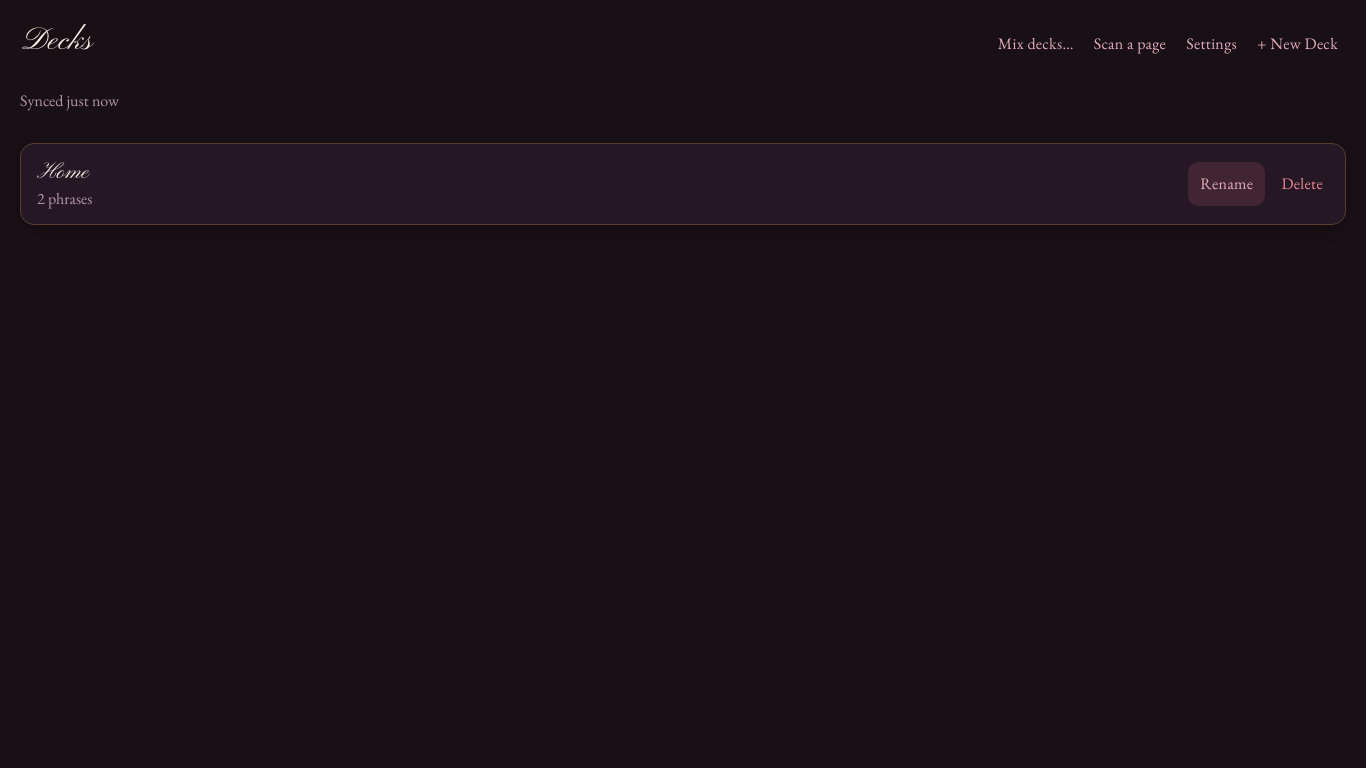
Scenario: App wired to the Drill screen › launches a Drill over a whole Deck from Deck detail, gated on readiness
Click the button with test id "deck-row-d1".
click(63, 172)  # box 21,144 -> 1178,224
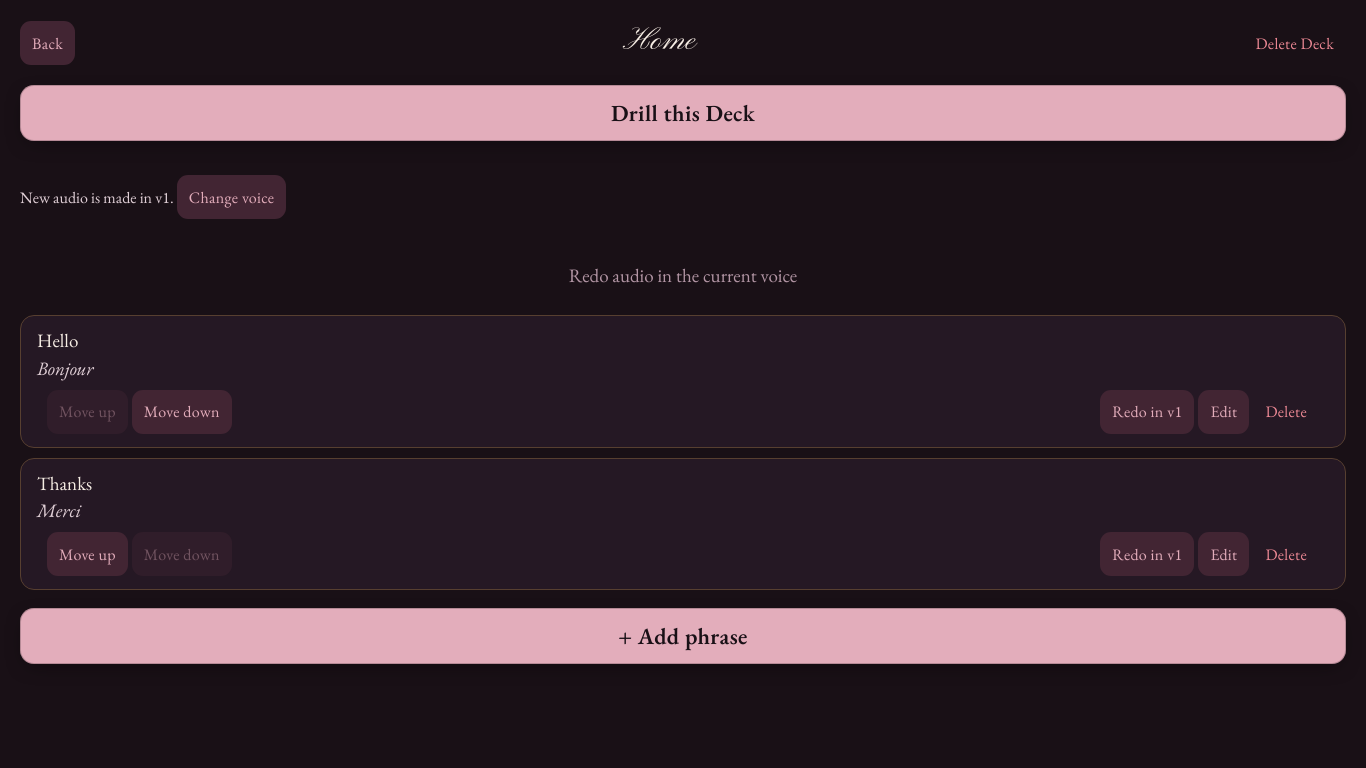
Click the button with test id "drill-deck".
click(683, 113)  # box 20,85 -> 1346,141
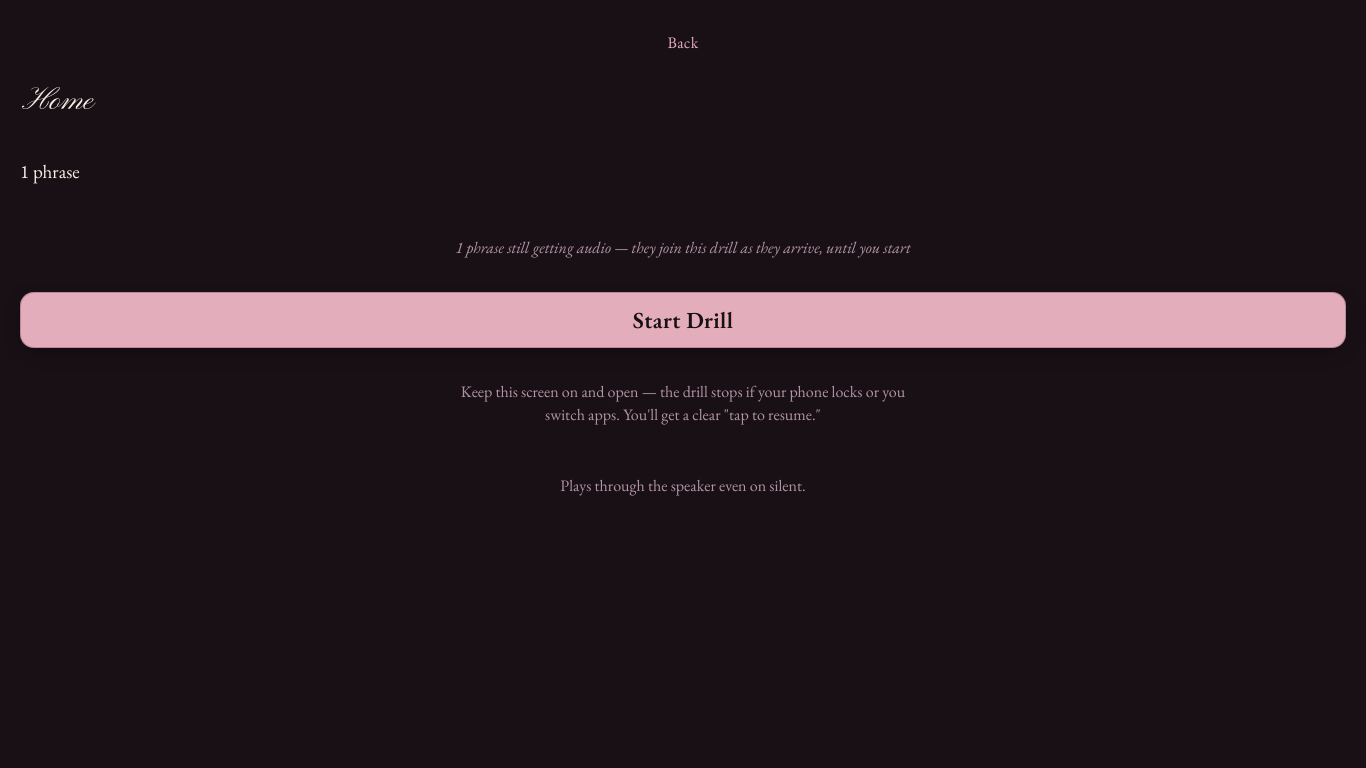
Expected: the heading with test id "drill-title" reads "Home", 22,81 -> 94,121
Expected: the text with test id "drill-phrase-count" reads "1 phrase", 20,159 -> 80,184
Expected: the text with test id "drill-skipped-count" shows "still getting audio", 507,237 -> 911,258
